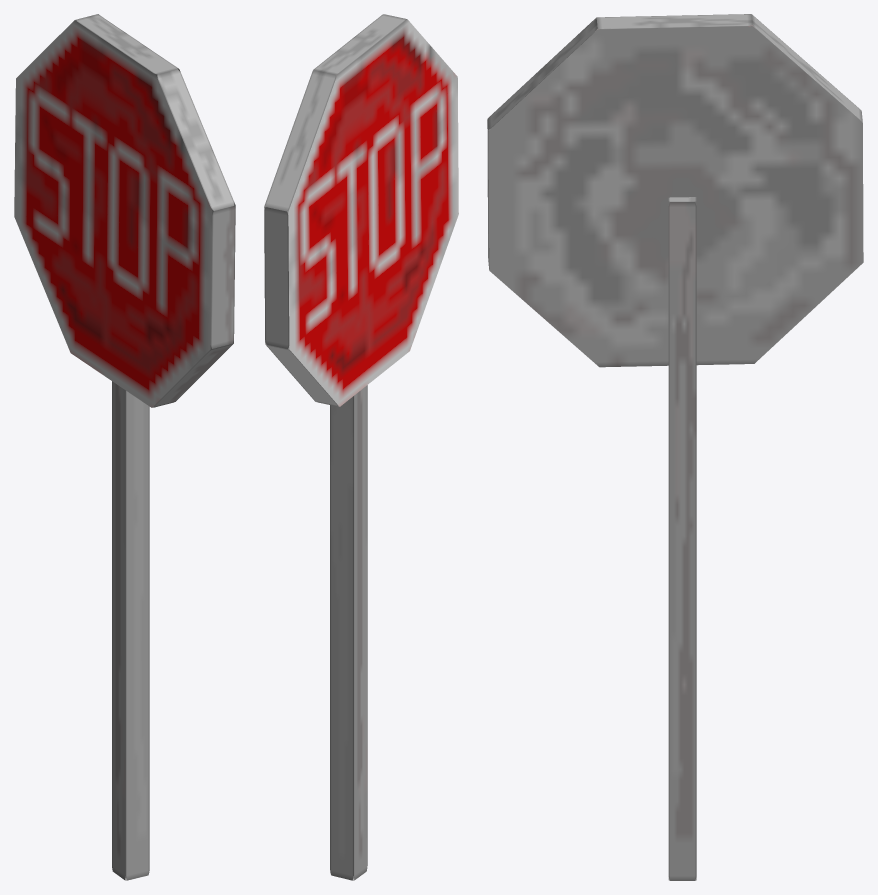
File: Arret.obj
The picture shows the model from 3 angles, left to right: view 1: azimuth 30°, elevation 25°; view 2: azimuth 150°, elevation 25°; view 3: azimuth 270°, elevation 25°; orthographic projection. The views are drawn at different scales.
Visible parts, largest first — view 1: cuboid; view 2: cuboid; view 3: cuboid.
Part boxes in pixels (box(x1,y1,x2,y2)): cuboid: box(14, 14, 235, 880); cuboid: box(264, 14, 458, 880); cuboid: box(487, 14, 863, 880).
Bounding box in the file's own units: 0.0316 × 0.6259 × 0.251.
1 material, 1 textured.
